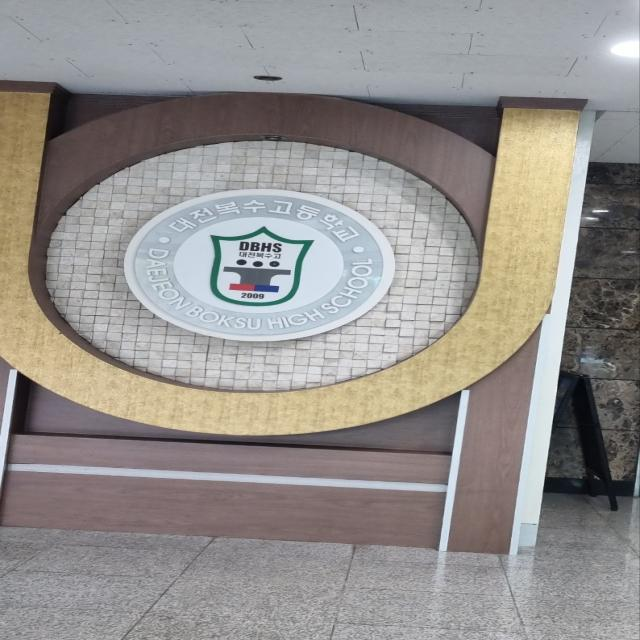logo: (119, 182, 409, 349)
